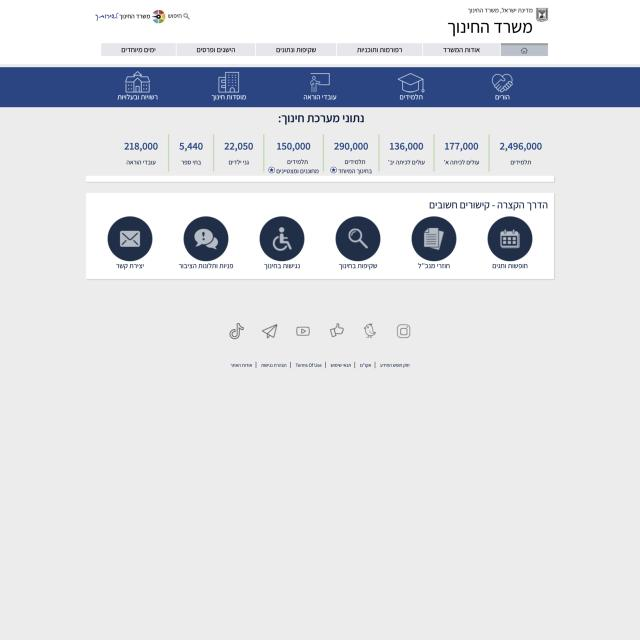CheckBox: (94, 6, 190, 26)
badge: (87, 284, 554, 388)
bag: (1, 0, 639, 108)
breadcrumbs: (427, 199, 550, 213)
carousel: (122, 70, 153, 94), (190, 228, 221, 252), (396, 72, 427, 94), (346, 227, 372, 253), (215, 70, 243, 94), (306, 70, 333, 94), (270, 225, 294, 252), (490, 71, 514, 94), (423, 227, 447, 250), (500, 227, 521, 252), (119, 228, 142, 248), (228, 320, 246, 340), (261, 322, 279, 341), (327, 322, 346, 338), (396, 322, 412, 340), (363, 322, 377, 340), (295, 324, 311, 338)
data feed: (177, 261, 235, 270), (262, 261, 302, 272), (416, 261, 453, 271), (492, 261, 528, 271), (338, 262, 379, 270), (117, 94, 161, 101), (301, 94, 339, 102), (115, 261, 147, 270), (210, 94, 248, 101), (398, 94, 425, 101), (494, 94, 512, 102)
date picker: (99, 41, 552, 62), (442, 2, 552, 40)
image: (276, 112, 367, 127)
